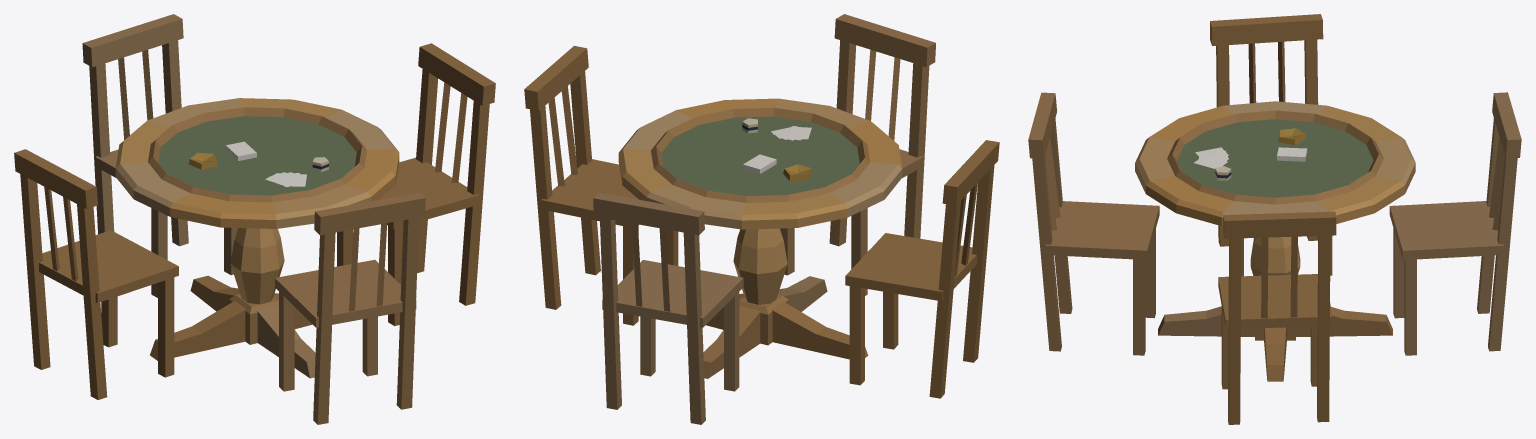
The model's file is poker-table-cb0492.glb.
3 renders of one model, left to right at view 1: azimuth 30°, elevation 25°; view 2: azimuth 150°, elevation 25°; view 3: azimuth 270°, elevation 25°, orthographic.
Visible parts, largest first — view 1: table, dressing-mesh; view 2: table, dressing-mesh; view 3: table, dressing-mesh.
Part boxes in pixels (bbox=[...]): table: bbox=[14, 14, 495, 424]; dressing-mesh: bbox=[188, 141, 328, 186]; table: bbox=[524, 14, 999, 424]; dressing-mesh: bbox=[742, 118, 812, 180]; table: bbox=[1028, 14, 1521, 424]; dressing-mesh: bbox=[1193, 128, 1307, 180].
Size of the model in its own units: 1.92 by 0.92 by 1.93.
